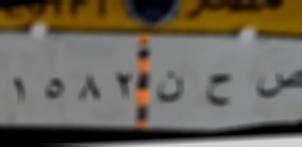1: (6, 74, 32, 107)
2: (112, 66, 135, 103)
5: (40, 74, 69, 110)
7aa: (198, 69, 241, 110)
8: (76, 68, 104, 107)
noon: (153, 65, 190, 110)
saad: (254, 63, 302, 102)
